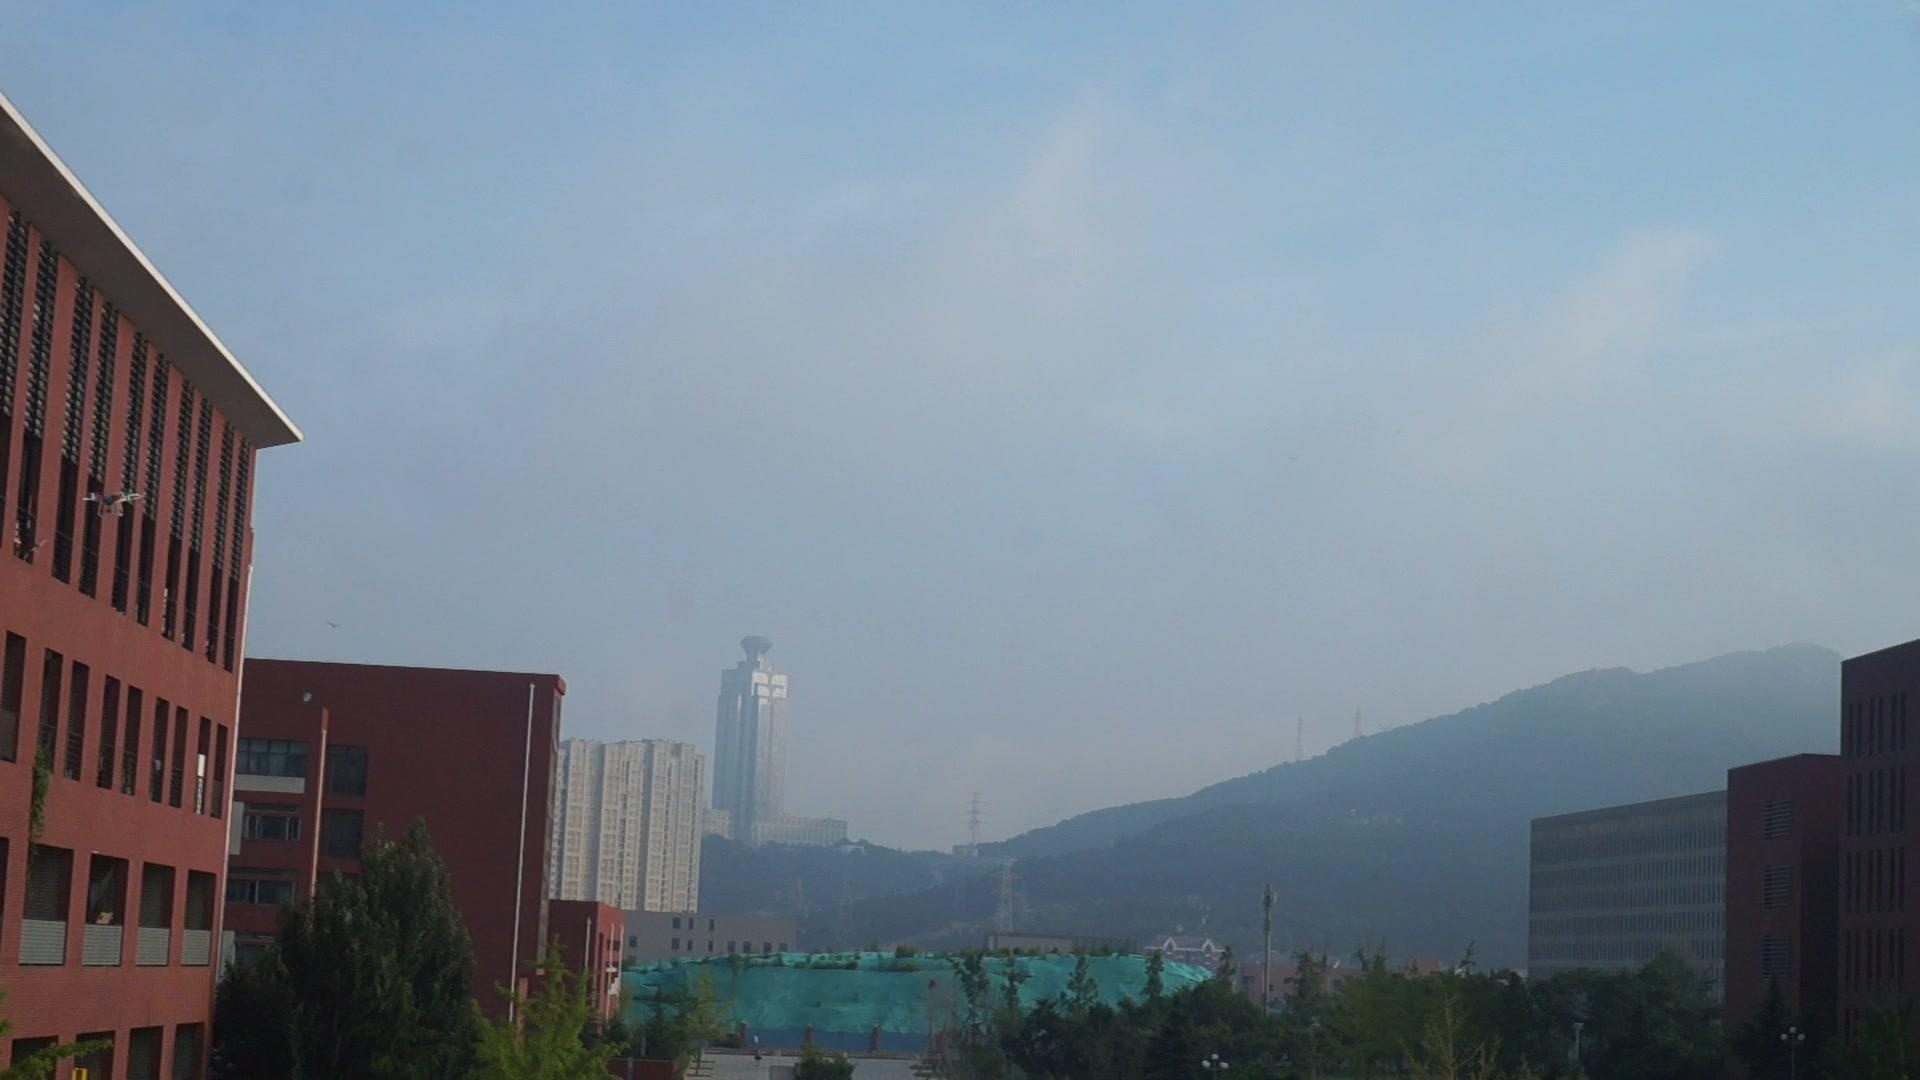UAV: (83, 492, 145, 518)
